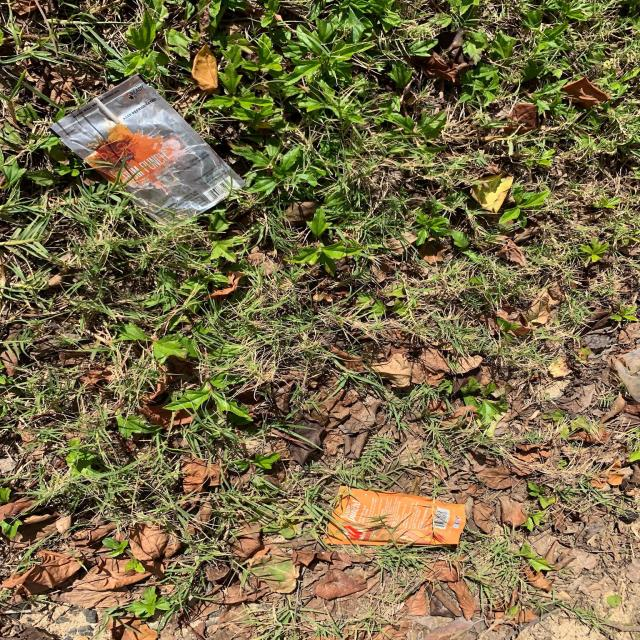litter: (49, 72, 247, 227)
